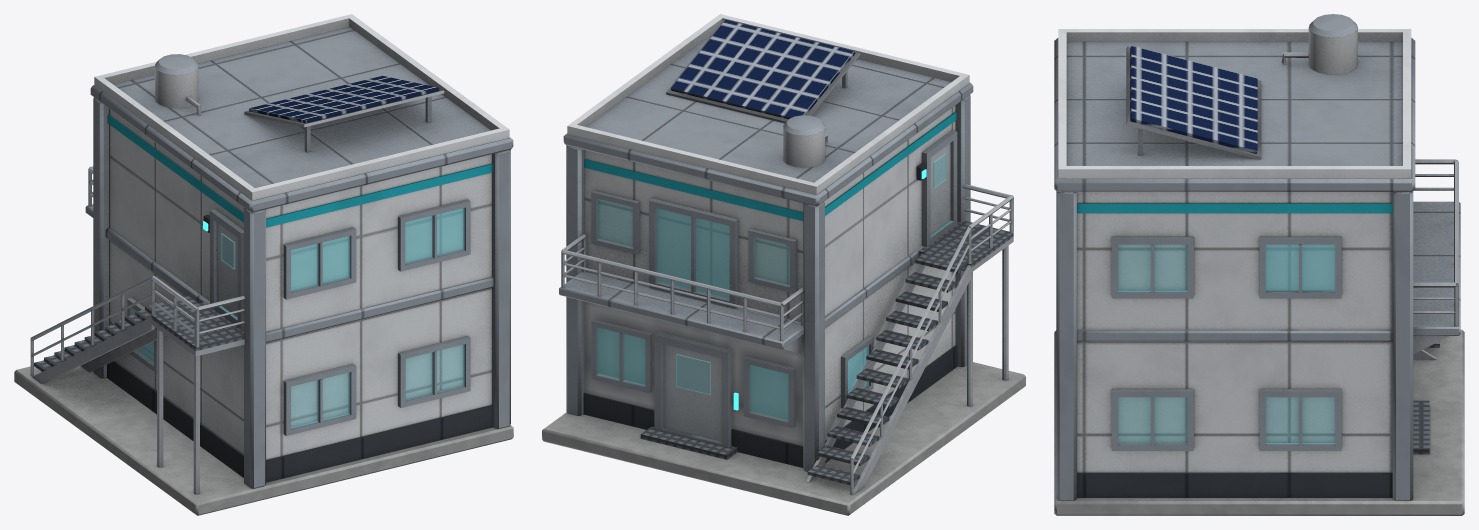
File: casa_mediana_a.fbx
3 renders of one model, left to right at view 1: azimuth 30°, elevation 25°; view 2: azimuth 150°, elevation 25°; view 3: azimuth 270°, elevation 25°, orthographic. The views are drawn at different scales.
Parts seen in each view (by area): view 1: casa_mediana_a, casa_mediana_a_cristal, casa_mediana_a_puerta_alta; view 2: casa_mediana_a, casa_mediana_a_cristal, casa_mediana_a_puerta, casa_mediana_a_puerta_alta; view 3: casa_mediana_a, casa_mediana_a_cristal.
Part boxes in pixels (x1=…): casa_mediana_a: x1=14, y1=14, x2=513, y2=515; casa_mediana_a_cristal: x1=132, y1=208, x2=464, y2=428; casa_mediana_a_puerta_alta: x1=217, y1=222, x2=237, y2=316; casa_mediana_a: x1=542, y1=14, x2=1025, y2=515; casa_mediana_a_cristal: x1=597, y1=153, x2=946, y2=420; casa_mediana_a_puerta: x1=663, y1=344, x2=721, y2=441; casa_mediana_a_puerta_alta: x1=930, y1=143, x2=950, y2=234; casa_mediana_a: x1=1054, y1=14, x2=1464, y2=515; casa_mediana_a_cristal: x1=1118, y1=244, x2=1335, y2=444.
Size of the model in its own units: 10 by 10.25 by 10.
3 materials, 3 textured.
